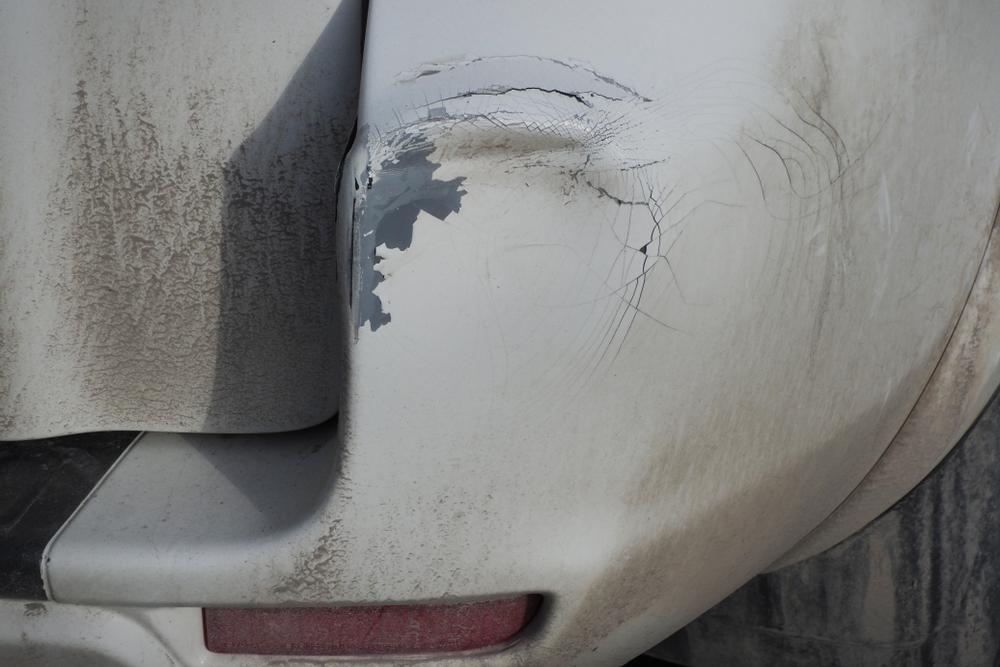dent: (360, 120, 644, 422)
